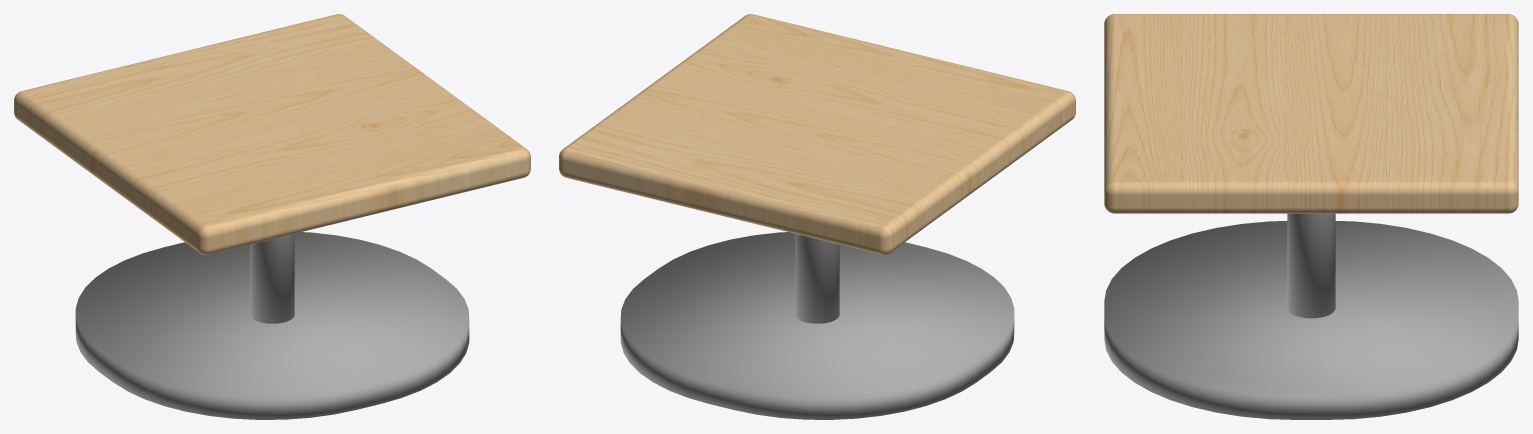
The model's file is Table.glb.
The picture shows the model from 3 angles, left to right: view 1: azimuth 30°, elevation 25°; view 2: azimuth 150°, elevation 25°; view 3: azimuth 270°, elevation 25°; orthographic projection. The views are drawn at different scales.
Parts seen in each view (by area): view 1: Plane, Plane.001, Cylinder; view 2: Plane, Plane.001, Cylinder; view 3: Plane, Plane.001, Cylinder.
Boxes of the visible parts, box(x1,y1,x2,y2) form: Plane: box(14, 14, 530, 254); Plane.001: box(75, 232, 469, 419); Cylinder: box(250, 234, 294, 323); Plane: box(559, 14, 1075, 254); Plane.001: box(620, 232, 1014, 419); Cylinder: box(795, 234, 839, 323); Plane: box(1104, 14, 1518, 213); Plane.001: box(1104, 221, 1518, 419); Cylinder: box(1287, 213, 1335, 318).
Size of the model in its own units: 2 by 1.25 by 2.
3 materials, 1 textured.
